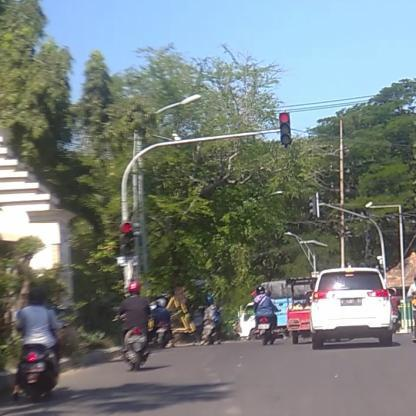red: (279, 113, 293, 146), (119, 221, 132, 256)
